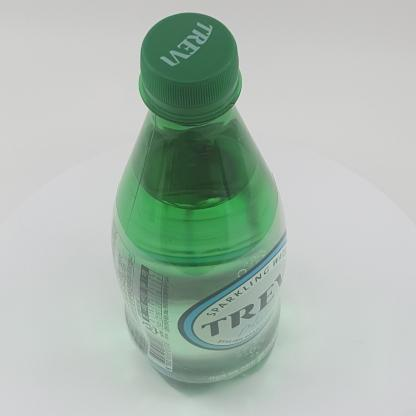---------PET-500ML: (111, 13, 287, 395)
